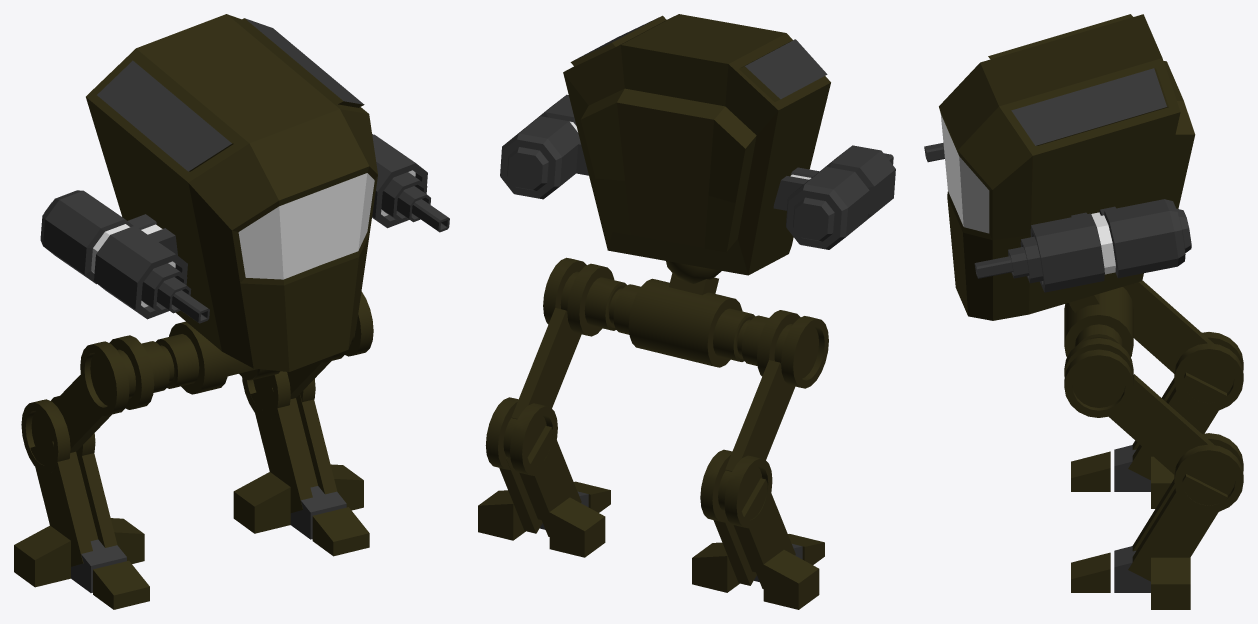
Rendered from mech.fbx.
3 views of the same model, side by side, from view 1: azimuth 30°, elevation 25°; view 2: azimuth 150°, elevation 25°; view 3: azimuth 270°, elevation 25° (orthographic). The views are drawn at different scales.
Parts seen in each view (by area): view 1: Body, Cube, LegsB, Hips, Knees, Cube.007, Cube.011, LegsT, Cube.005, Cube.009, Cube.004, Cube.008 (+2 smaller); view 2: Body, Hips, Cube, LegsB, Knees, LegsT, Cube.007, Cube.011, Cube.010, Cube.006, Ball, Cube.005 (+2 smaller); view 3: Body, Cube, Hips, LegsT, LegsB, Knees, Cube.006, Cube.009, Cube.005, Cube.008, Cube.004, Cube.010.
Boxes of the visible parts, left/top/right/bottom form: Body: left=86, top=14, right=377, bottom=371; Cube: left=40, top=134, right=449, bottom=323; LegsB: left=30, top=388, right=337, bottom=566; Hips: left=80, top=291, right=373, bottom=415; Knees: left=21, top=371, right=315, bottom=473; Cube.007: left=233, top=472, right=290, bottom=533; Cube.011: left=14, top=525, right=70, bottom=587; LegsT: left=53, top=361, right=331, bottom=452; Cube.005: left=312, top=507, right=369, bottom=556; Cube.009: left=93, top=560, right=149, bottom=609; Cube.004: left=290, top=486, right=346, bottom=539; Cube.008: left=71, top=539, right=126, bottom=592; Body: left=563, top=14, right=830, bottom=275; Hips: left=543, top=257, right=828, bottom=388; Cube: left=500, top=94, right=895, bottom=249; LegsB: left=499, top=426, right=795, bottom=588; Knees: left=485, top=397, right=772, bottom=528; LegsT: left=511, top=308, right=795, bottom=471; Cube.007: left=549, top=497, right=605, bottom=557; Cube.011: left=763, top=550, right=819, bottom=609; Cube.010: left=692, top=542, right=739, bottom=592; Cube.006: left=478, top=490, right=525, bottom=540; Ball: left=666, top=261, right=721, bottom=283; Cube.005: left=574, top=481, right=610, bottom=512; Body: left=939, top=14, right=1195, bottom=320; Cube: left=924, top=143, right=1191, bottom=292; Hips: left=1064, top=283, right=1133, bottom=417; LegsT: left=1109, top=280, right=1214, bottom=474; LegsB: left=1128, top=372, right=1227, bottom=581; Knees: left=1174, top=332, right=1243, bottom=512; Cube.006: left=1151, top=557, right=1190, bottom=609; Cube.009: left=1071, top=451, right=1110, bottom=491; Cube.005: left=1071, top=552, right=1110, bottom=592; Cube.008: left=1114, top=445, right=1150, bottom=491; Cube.004: left=1114, top=546, right=1150, bottom=592; Cube.010: left=1151, top=456, right=1174, bottom=508.
Size of the model in its own units: 338 by 488 by 288.
